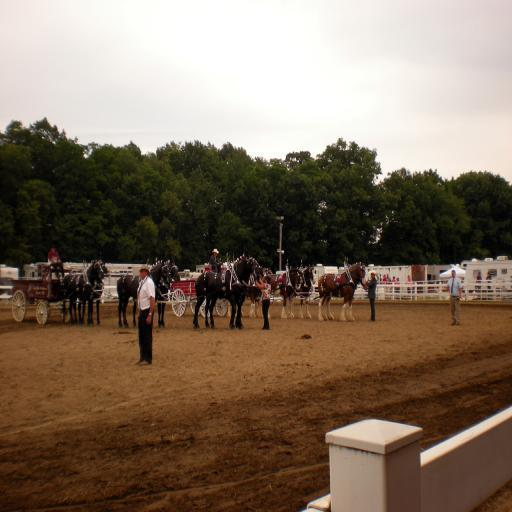horse: (192, 254, 258, 334), (206, 255, 264, 330), (116, 260, 170, 330), (130, 262, 180, 330), (59, 258, 106, 326), (317, 262, 367, 322), (326, 264, 370, 321), (76, 260, 112, 326), (228, 266, 266, 320), (266, 267, 306, 318), (286, 262, 318, 319)
